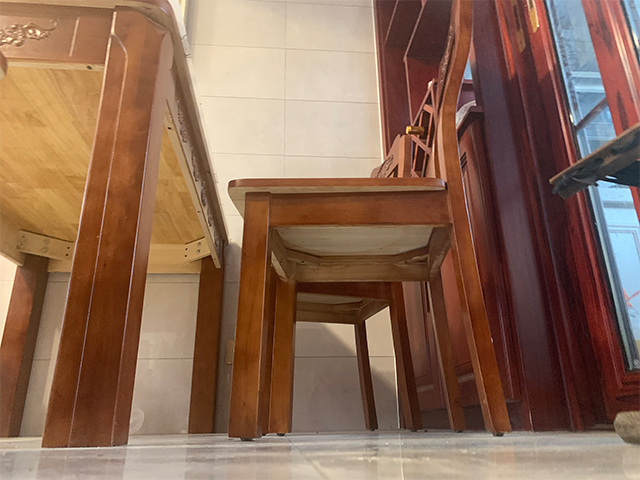stool: (226, 1, 513, 441)
table: (1, 1, 228, 451)
